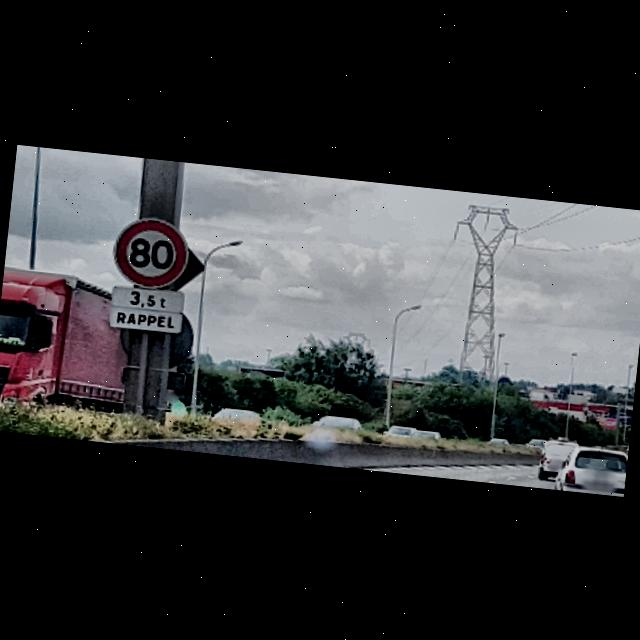speed_80: (110, 212, 193, 290)
